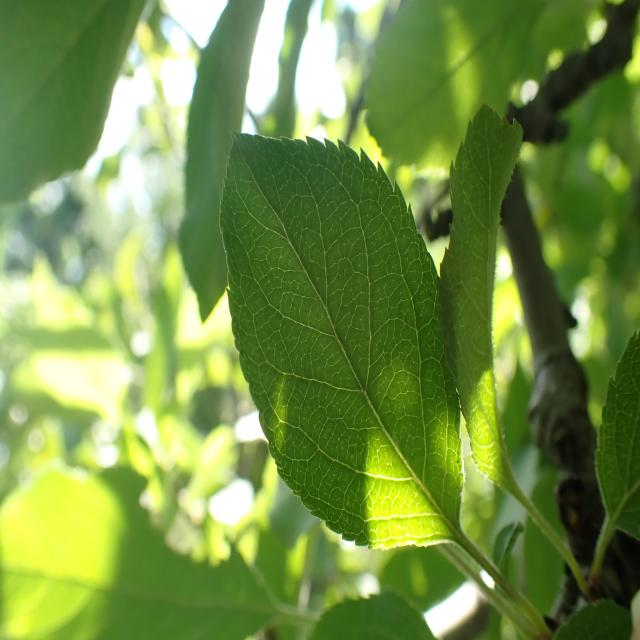healthy: (218, 128, 464, 552), (441, 100, 524, 489), (0, 0, 150, 204), (594, 328, 640, 541)
